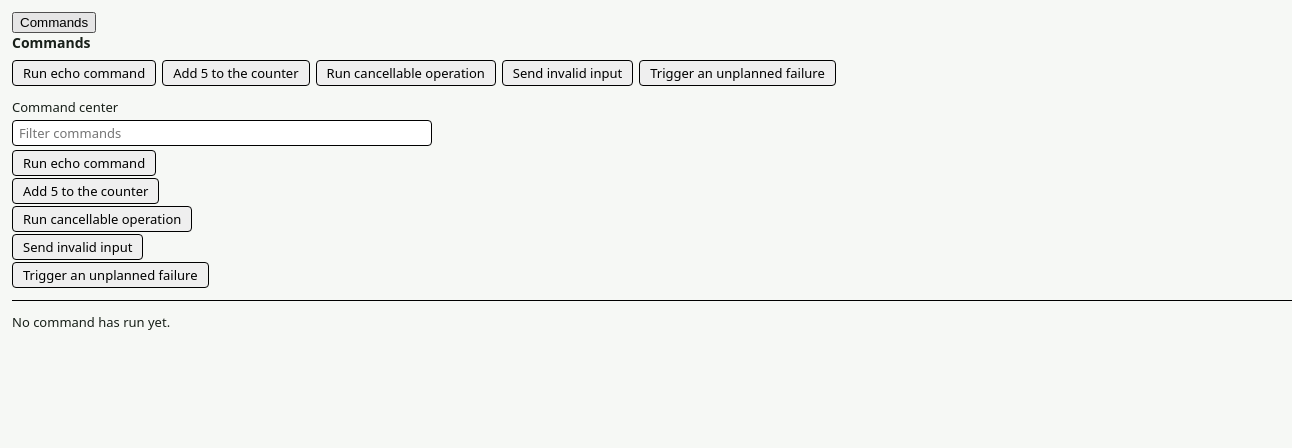
Test: receipt › shows a committed receipt carrying the request id
Click the 1st button "Run echo command". click: (84, 73)
box: top-left (12, 60), bottom-right (156, 86)
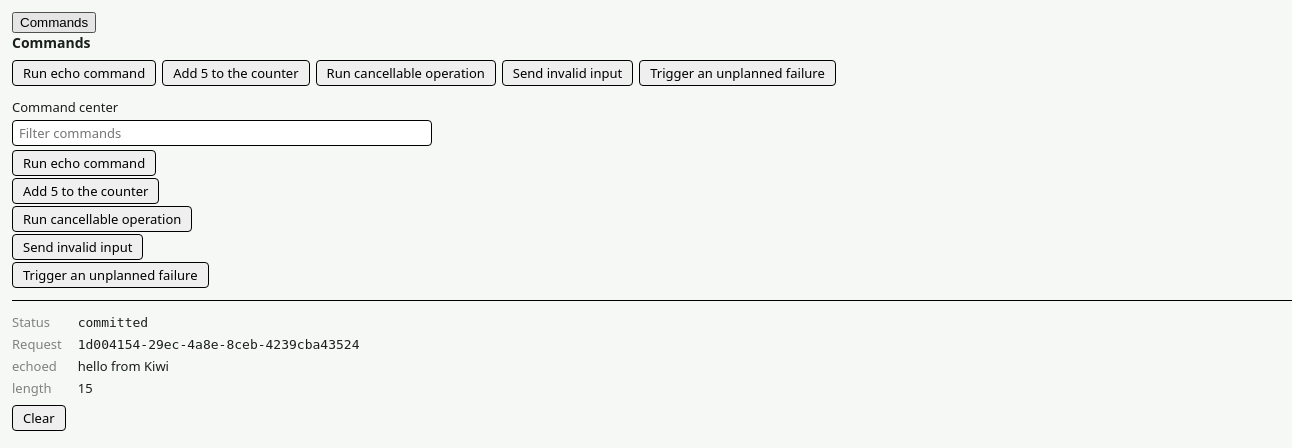
Now the text "committed" is shown, box top-left (78, 315), bottom-right (148, 330)
Now the text "hello from Kiwi" is shown, box top-left (78, 357), bottom-right (169, 375)
